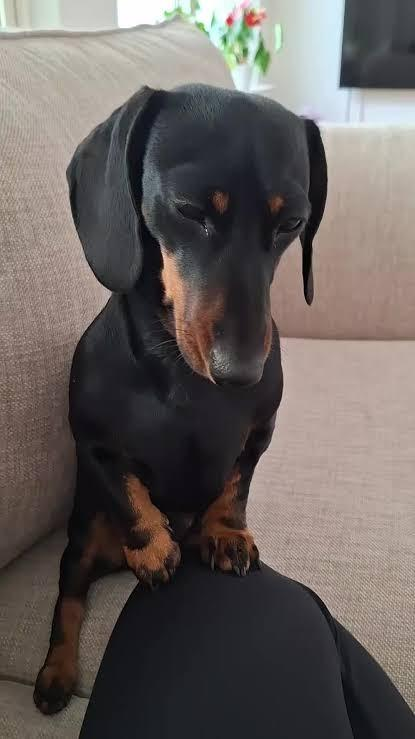adult_dog: (31, 80, 329, 716)
